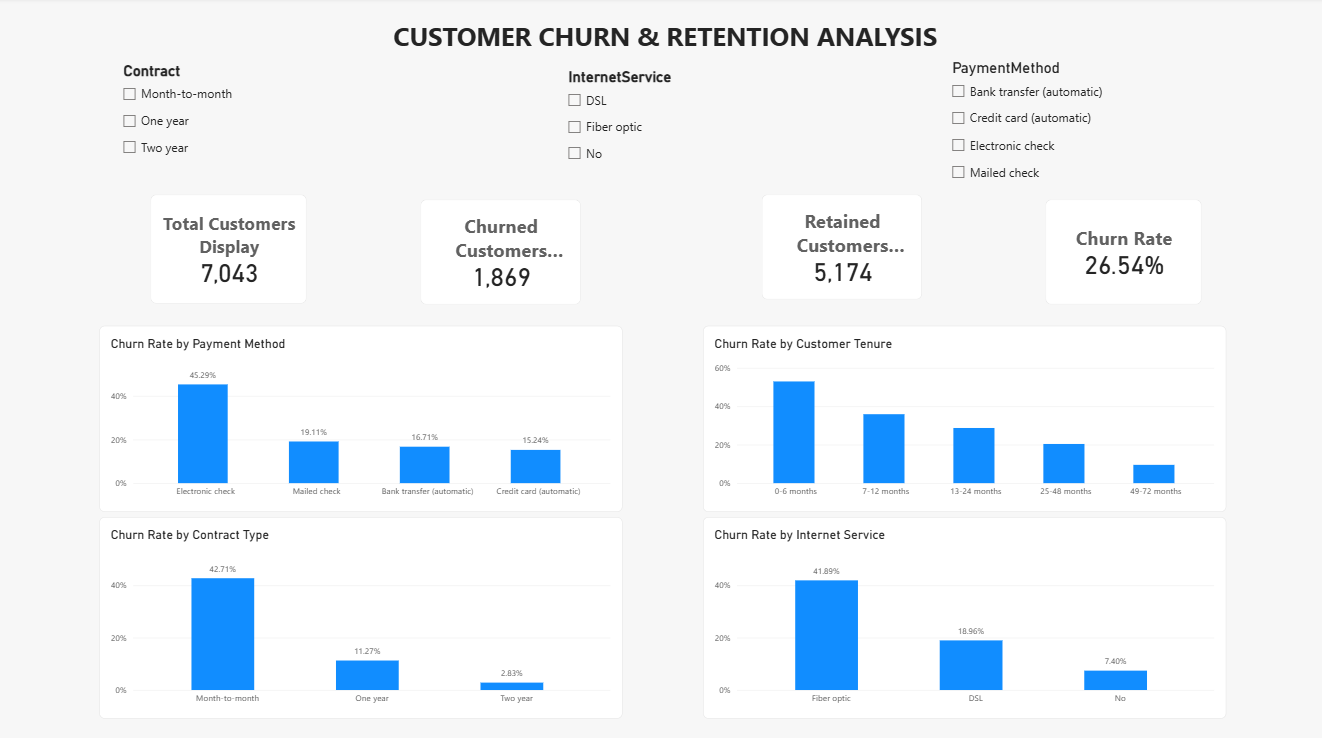

Layout of this report page (visuals, bound fields, positions):
{"tool":"powerbi","page":{"name":"Page 1","canvas":[1920,1080],"ordinal":0},"visuals":[{"type":"cardVisual","fields":{"Data":["telco_churn_cleaned.Total Customers Display"]},"box":[220.2,286.1,226.4,158.5],"z":0},{"type":"cardVisual","fields":{"Data":["telco_churn_cleaned.Churned Customers Display"]},"box":[611.3,292.3,232.6,152.3],"z":1},{"type":"cardVisual","fields":{"Data":["telco_churn_cleaned.Retained Customers Display"]},"box":[1105.3,286.1,232.6,152.3],"z":2},{"type":"cardVisual","fields":{"Data":["telco_churn_cleaned.Churn Rate"]},"box":[1517,292.3,226.4,152.3],"z":3},{"type":"clusteredColumnChart","title":"Churn Rate by Contract Type","fields":{"Category":["telco_churn_cleaned.Contract"],"Y":["telco_churn_cleaned.Churn Rate"]},"box":[146.1,753.3,757.5,292.3],"z":4},{"type":"clusteredColumnChart","title":"Churn Rate by Customer Tenure","fields":{"Category":["telco_churn_cleaned.Tenure_Group"],"Y":["telco_churn_cleaned.Churn Rate"]},"box":[1020.9,475.5,757.5,269.6],"z":5},{"type":"clusteredColumnChart","title":"Churn Rate by Payment Method","fields":{"Category":["telco_churn_cleaned.PaymentMethod"],"Y":["telco_churn_cleaned.Churn Rate"]},"box":[146.1,475.5,757.5,269.6],"z":6},{"type":"clusteredColumnChart","title":"Churn Rate by Internet Service","fields":{"Category":["telco_churn_cleaned.InternetService"],"Y":["telco_churn_cleaned.Churn Rate"]},"box":[1020.9,753.3,757.5,292.3],"z":7},{"type":"textbox","box":[10.3,30.9,1910.1,102.9],"z":8},{"type":"slicer","fields":{"Values":["telco_churn_cleaned.Contract"]},"box":[172.9,94.7,500.2,177],"z":9},{"type":"slicer","fields":{"Values":["telco_churn_cleaned.InternetService"]},"box":[817.2,102.9,405.5,168.8],"z":10},{"type":"slicer","fields":{"Values":["telco_churn_cleaned.PaymentMethod"]},"box":[1372.9,90.6,481.6,207.9],"z":11}]}

Visuals, with their boxes in screenshot pixels (x1, y1, x2, y2), scaled from the page's 1920x1080 canvas onto the 1322x738 screenshot:
cardVisual - telco_churn_cleaned.Total Customers Display: 152,196,308,304
cardVisual - telco_churn_cleaned.Churned Customers Display: 421,200,581,304
cardVisual - telco_churn_cleaned.Retained Customers Display: 761,196,921,300
cardVisual - telco_churn_cleaned.Churn Rate: 1045,200,1200,304
"Churn Rate by Contract Type" clusteredColumnChart: 101,515,622,714
"Churn Rate by Customer Tenure" clusteredColumnChart: 703,325,1225,509
"Churn Rate by Payment Method" clusteredColumnChart: 101,325,622,509
"Churn Rate by Internet Service" clusteredColumnChart: 703,515,1225,714
textbox: 7,21,1321,91
slicer - telco_churn_cleaned.Contract: 119,65,463,186
slicer - telco_churn_cleaned.InternetService: 563,70,842,186
slicer - telco_churn_cleaned.PaymentMethod: 945,62,1277,204
